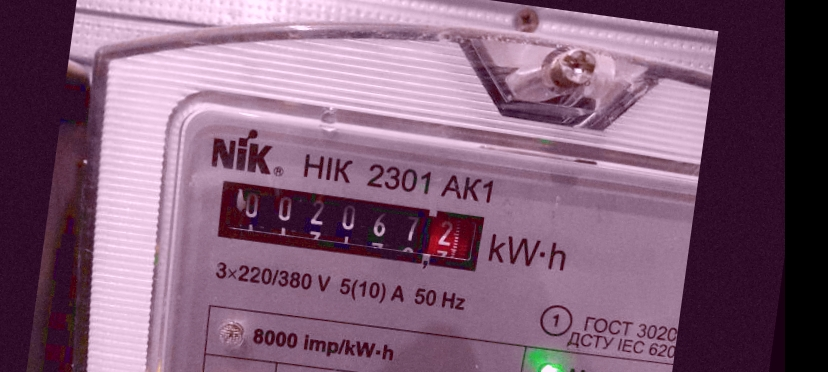0: (336, 200, 358, 230), (240, 189, 261, 220), (274, 192, 294, 223)
2: (434, 216, 455, 248), (306, 196, 327, 227)
6: (368, 208, 390, 239)
7: (401, 212, 421, 244)
screen: (199, 165, 500, 286)
